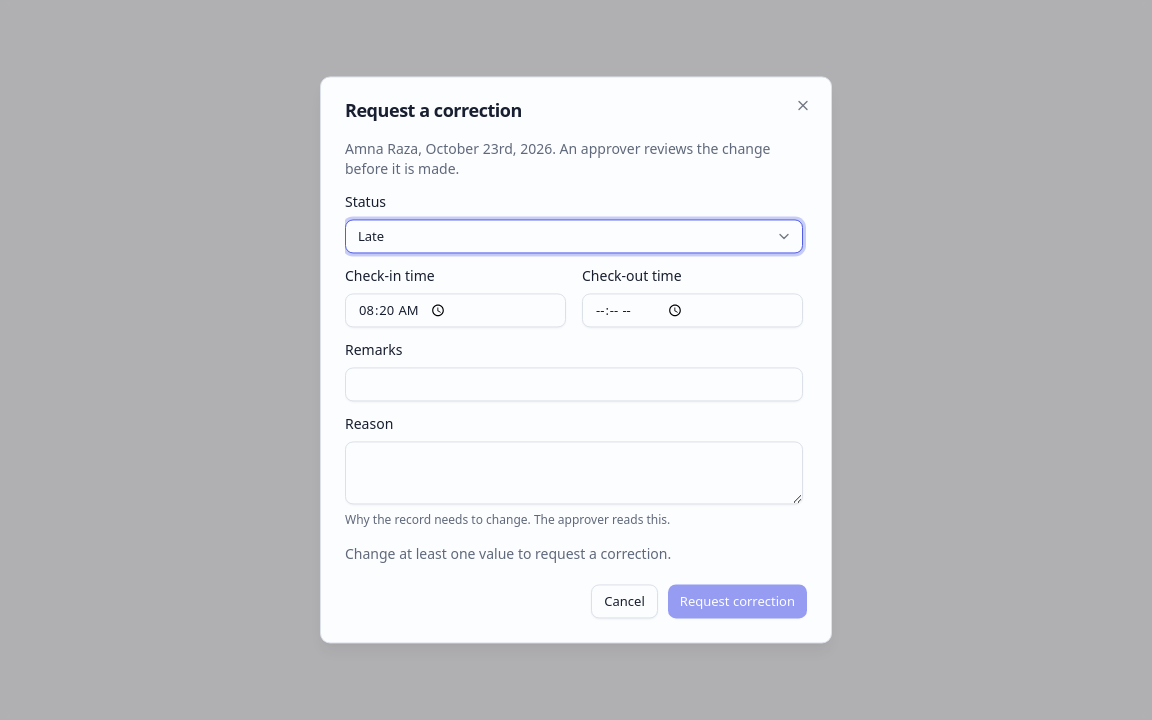
Test case: RequestCorrectionDialog › offers every register status but on_leave
Click the dropdown named "Status" at (371, 236), box [345,219,803,253]
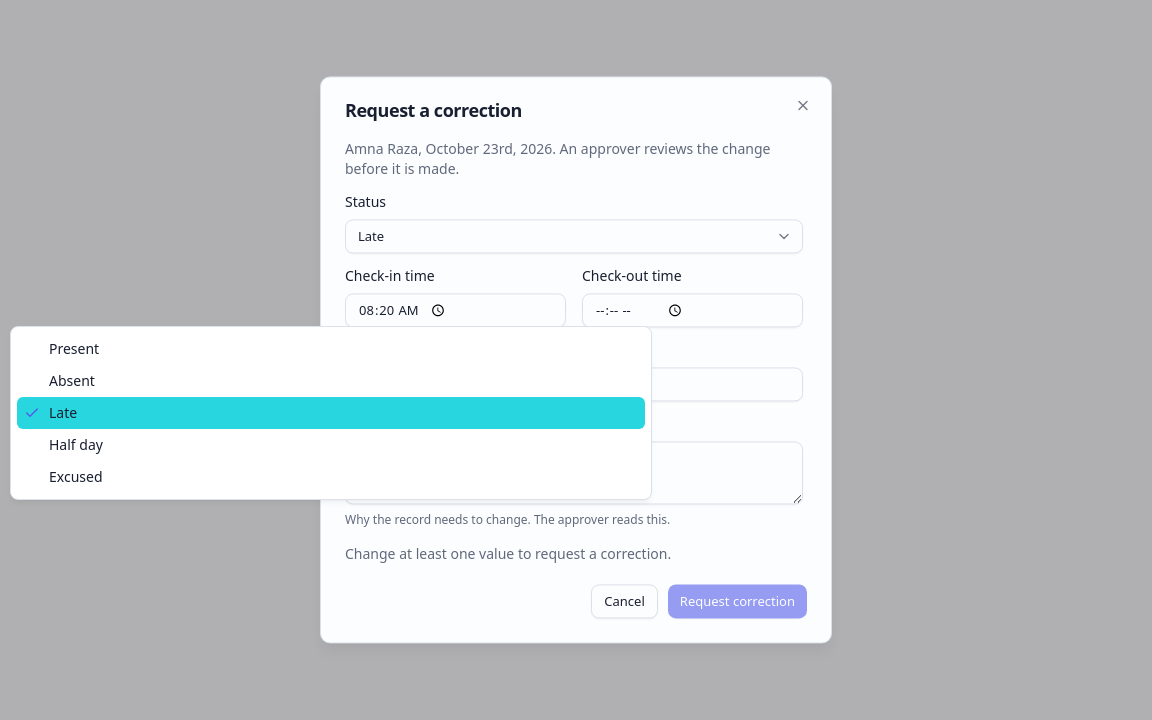
Check: the options read "Present", "Absent", "Late", "Half day", "Excused", in this order, box [49,339,99,358]; [49,371,95,390]; [17,397,645,429]; [49,435,103,454]; [49,467,102,486]
